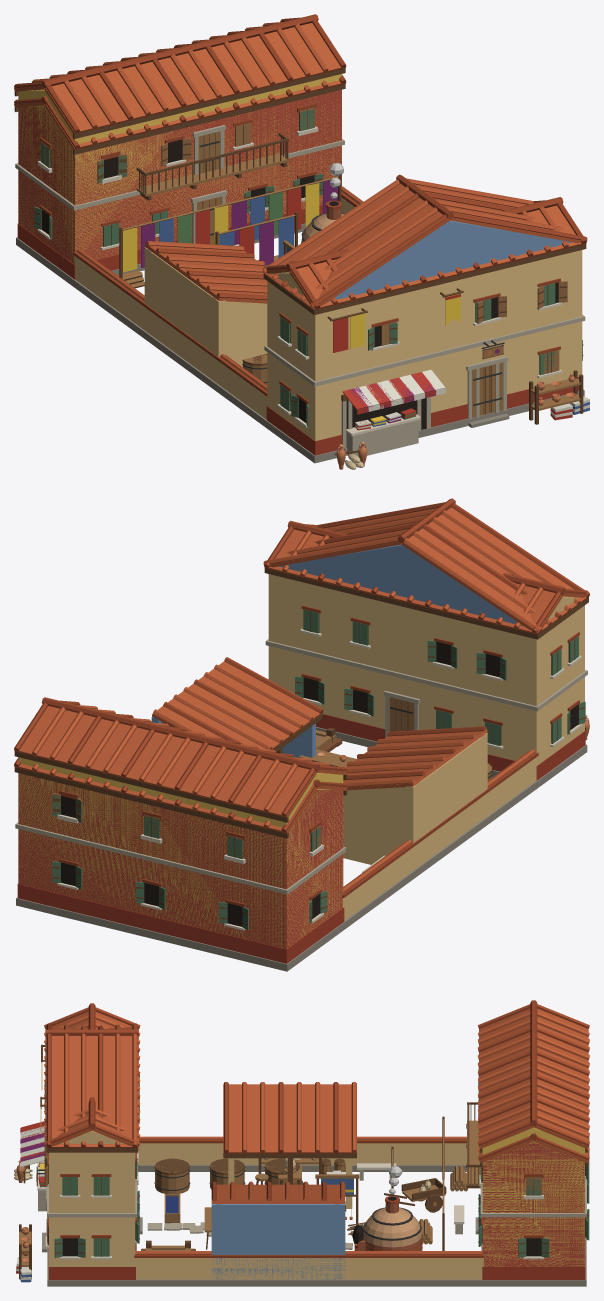
The model's file is Handwerkerhof.fbx.
3 views of the same model, one above another, from view 1: azimuth 30°, elevation 25°; view 2: azimuth 150°, elevation 25°; view 3: azimuth 270°, elevation 25° (orthographic). The views are drawn at different scales.
Visible parts, largest first — view 1: Handwerkerhof_0, Handwerkerhof_1; view 2: Handwerkerhof_0, Handwerkerhof_1; view 3: Handwerkerhof_0, Handwerkerhof_1.
Part boxes in pixels (box(x1,y1,x2,y2)): Handwerkerhof_0: box(14, 74, 586, 469); Handwerkerhof_1: box(14, 14, 589, 469); Handwerkerhof_0: box(14, 520, 589, 971); Handwerkerhof_1: box(14, 498, 589, 963); Handwerkerhof_0: box(16, 1003, 589, 1286); Handwerkerhof_1: box(14, 1000, 589, 1282).
Bounding box in the file's own units: 3.66 × 2.8 × 7.33.
